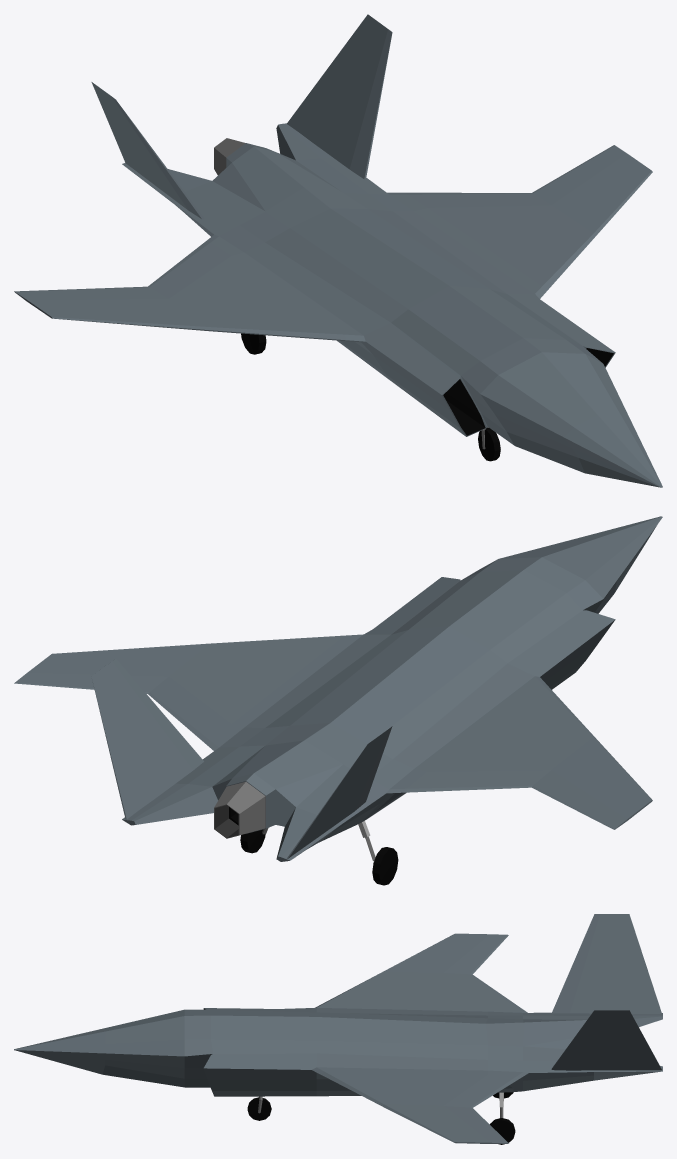
3 views of the same model, one above another, from view 1: azimuth 30°, elevation 25°; view 2: azimuth 150°, elevation 25°; view 3: azimuth 270°, elevation 25° (orthographic). The views are drawn at different scales.
Visible parts, largest first — view 1: body.003, L_rudder.003, R_Rudder.003, R_ailerone.003, L_ailerone.003; view 2: body.003, L_rudder.003, R_Rudder.003, R_ailerone.003, L_ailerone.003, Landing gear_RR.003; view 3: body.003, R_Rudder.003, L_rudder.003, L_ailerone.003, R_ailerone.003, Landing gear_RL.003, Landing gear_F.003.
Boxes of the visible parts, x1=… form: body.003: x1=14, y1=123, x2=662, y2=487; L_rudder.003: x1=287, y1=14, x2=392, y2=179; R_Rudder.003: x1=91, y1=82, x2=204, y2=219; R_ailerone.003: x1=148, y1=241, x2=230, y2=298; L_ailerone.003: x1=404, y1=192, x2=550, y2=207; body.003: x1=14, y1=516, x2=662, y2=861; L_rudder.003: x1=91, y1=658, x2=203, y2=819; R_Rudder.003: x1=287, y1=726, x2=392, y2=858; R_ailerone.003: x1=404, y1=770, x2=550, y2=792; L_ailerone.003: x1=148, y1=676, x2=230, y2=743; Landing gear_RR.003: x1=358, y1=820, x2=398, y2=885; body.003: x1=14, y1=933, x2=662, y2=1143; R_Rudder.003: x1=552, y1=914, x2=661, y2=1013; L_rudder.003: x1=551, y1=1010, x2=661, y2=1070; L_ailerone.003: x1=444, y1=1075, x2=521, y2=1107; R_ailerone.003: x1=444, y1=973, x2=521, y2=1008; Landing gear_RL.003: x1=490, y1=1092, x2=515, y2=1144; Landing gear_F.003: x1=247, y1=1096, x2=271, y2=1120.
Bounding box in the file's own units: 674 × 239 × 886.
